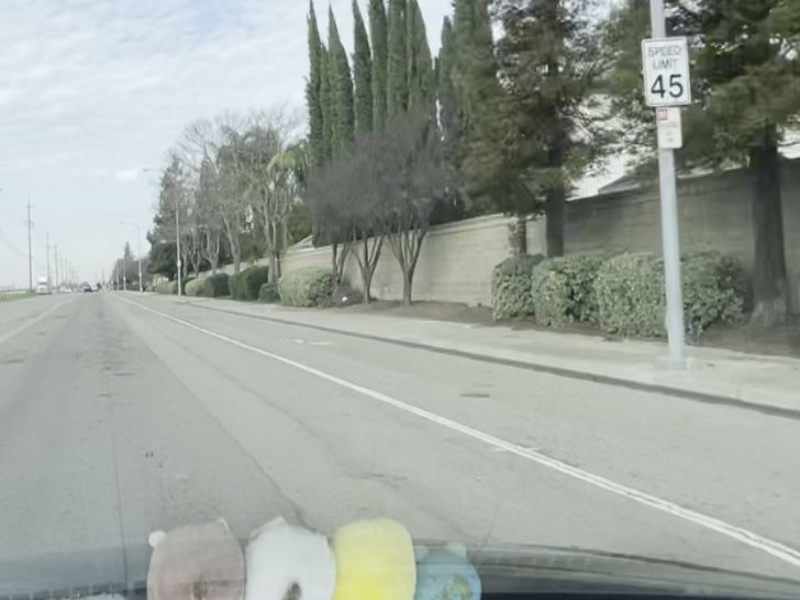speed limit sign: (638, 35, 694, 109)
